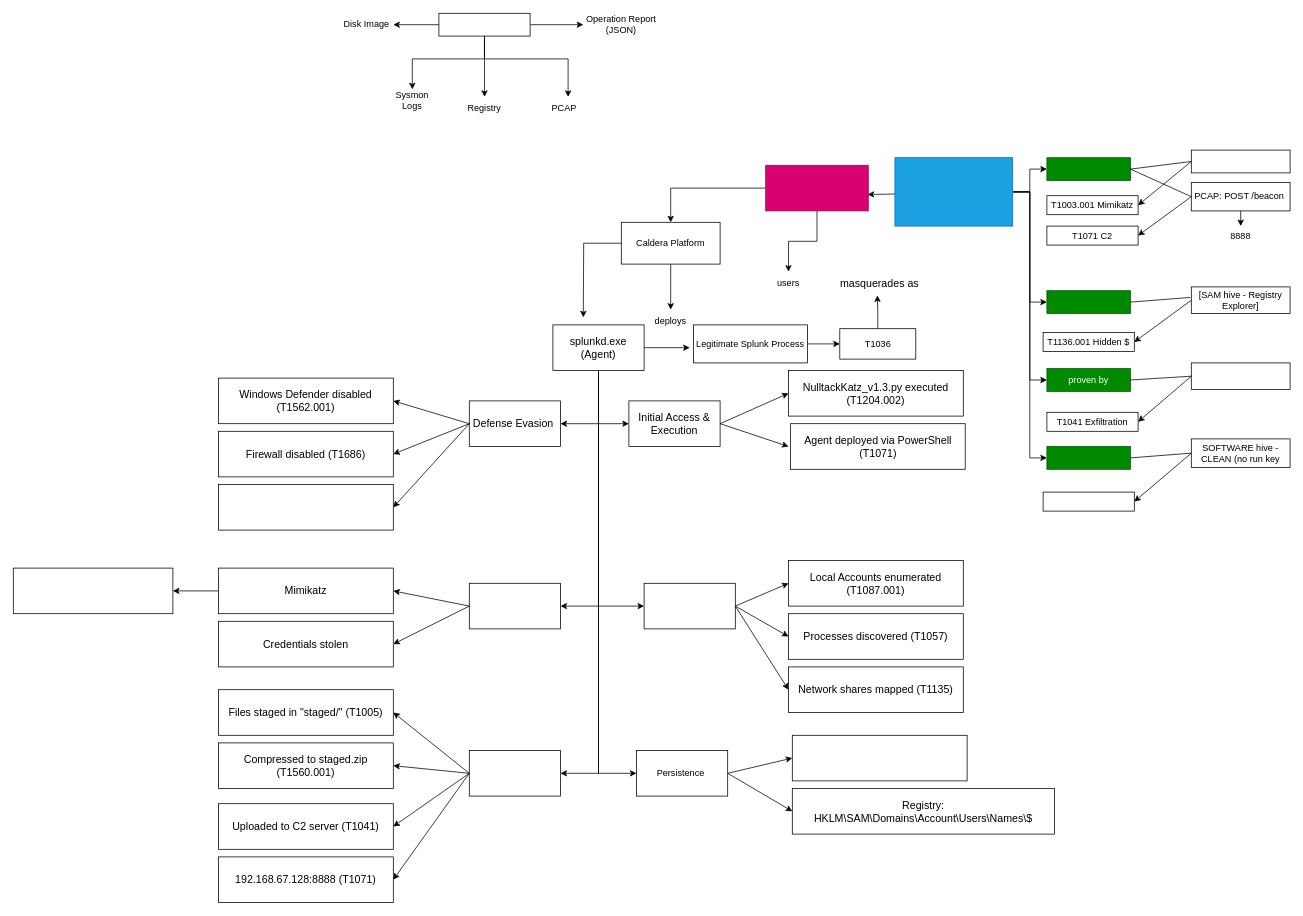
Some shapes in this 1303 by 916 pixel diagram are drawn without their labels. The shapes that lost their labels are listed below. From the top down, each one's centre as x and y in pixels, then its label:
pixel 484 24: Evidence Sources
pixel 1088 168: detected by
pixel 1240 161: Sysmon Event ID 10 on lsass
pixel 816 188: Constantine Group
pixel 953 191: Operation Constantine
pixel 1088 302: found in
pixel 1240 376: Wireshark: POST /file/upload
pixel 1088 457: checked
pixel 305 507: Event Logs cleared (T1070.001)
pixel 1088 501: T1547.001 Run Key
pixel 93 590: accesses lsass.exe memory (T1003.001)
pixel 514 606: Credential Access
pixel 689 606: Discovery
pixel 514 773: Collection & Exfiltration
pixel 879 758: Hidden account "$" created (T1136.001)
